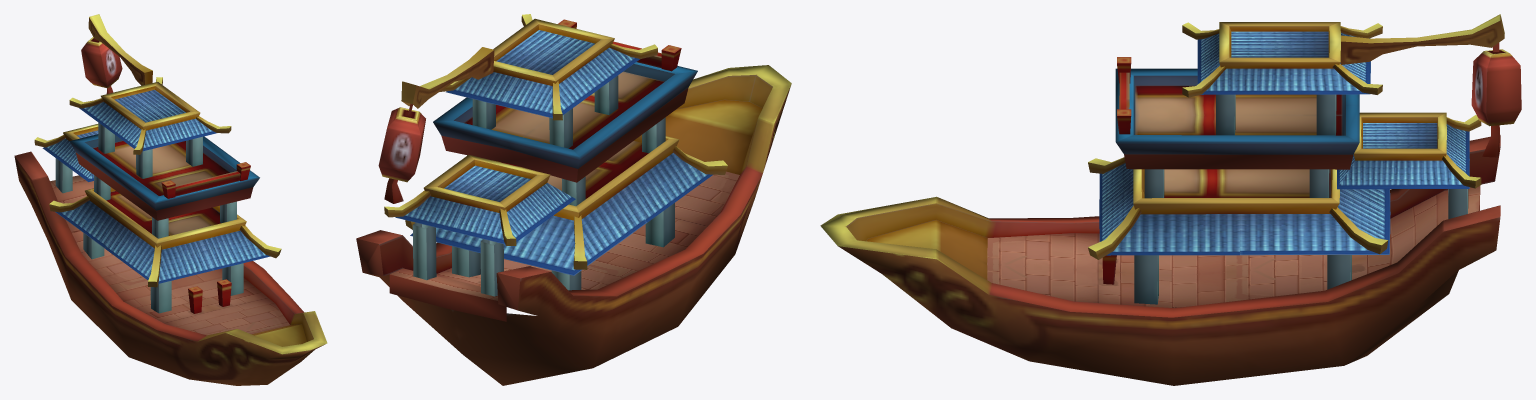
The model's file is BIGMAP_JD_15.FBX.
The picture shows the model from 3 angles, left to right: view 1: azimuth 30°, elevation 25°; view 2: azimuth 150°, elevation 25°; view 3: azimuth 270°, elevation 25°; orthographic projection. The views are drawn at different scales.
Visible parts, largest first — view 1: Object01; view 2: Object01; view 3: Object01.
Part boxes in pixels (x1=…): Object01: x1=14, y1=14, x2=327, y2=385; Object01: x1=356, y1=14, x2=791, y2=385; Object01: x1=820, y1=14, x2=1521, y2=385.
Bounding box in the file's own units: 27.87 × 43.27 × 77.89.
1 material, 1 textured.
